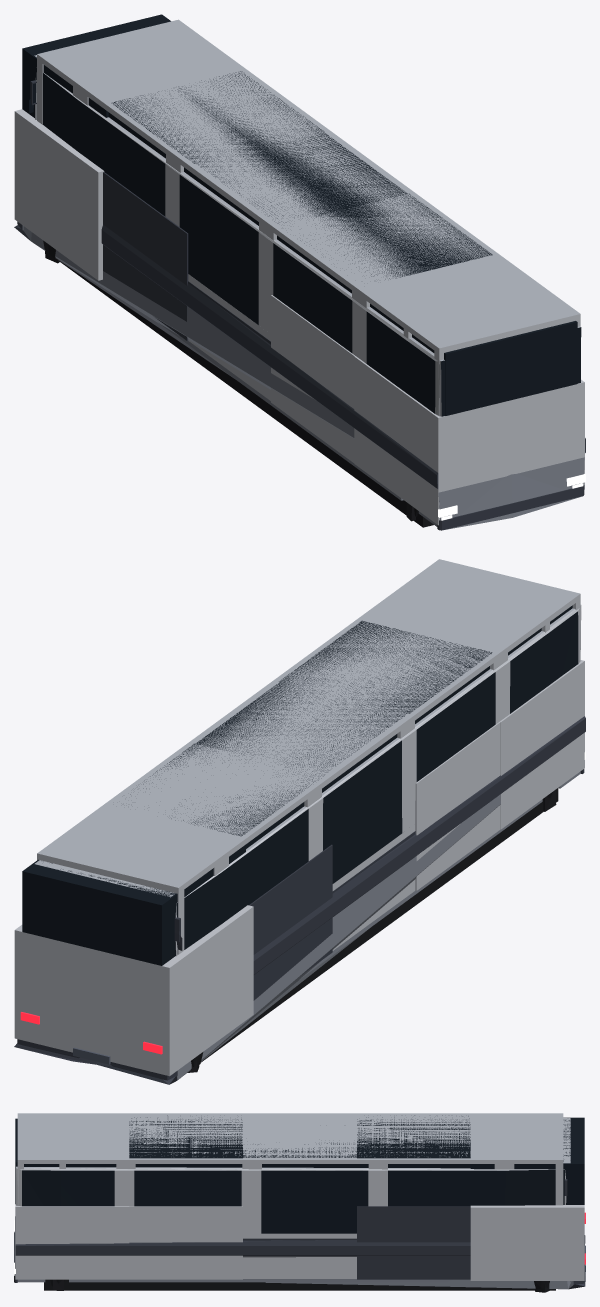
Rendered from vehicle-props.glb.
3 views of the same model, one above another, from view 1: azimuth 30°, elevation 25°; view 2: azimuth 150°, elevation 25°; view 3: azimuth 270°, elevation 25° (orthographic). The views are drawn at different scales.
Visible parts, largest first — view 1: veh-trolleybus-far, veh-trolleybus, veh-trolleybus-lite; view 2: veh-trolleybus-far, veh-trolleybus, veh-trolleybus-lite; view 3: veh-trolleybus-far, veh-trolleybus-lite, veh-trolleybus.
Part boxes in pixels (x1=…): veh-trolleybus-far: x1=14, y1=14, x2=585, y2=527; veh-trolleybus: x1=17, y1=19, x2=584, y2=530; veh-trolleybus-lite: x1=14, y1=67, x2=585, y2=529; veh-trolleybus-far: x1=14, y1=620, x2=585, y2=1076; veh-trolleybus: x1=17, y1=559, x2=584, y2=1080; veh-trolleybus-lite: x1=14, y1=605, x2=585, y2=1084; veh-trolleybus-far: x1=14, y1=1115, x2=585, y2=1290; veh-trolleybus-lite: x1=14, y1=1166, x2=585, y2=1292; veh-trolleybus: x1=14, y1=1113, x2=585, y2=1289.
Bounding box in the file's own units: 2.55 × 3.05 × 12.
1 material, 1 textured.
